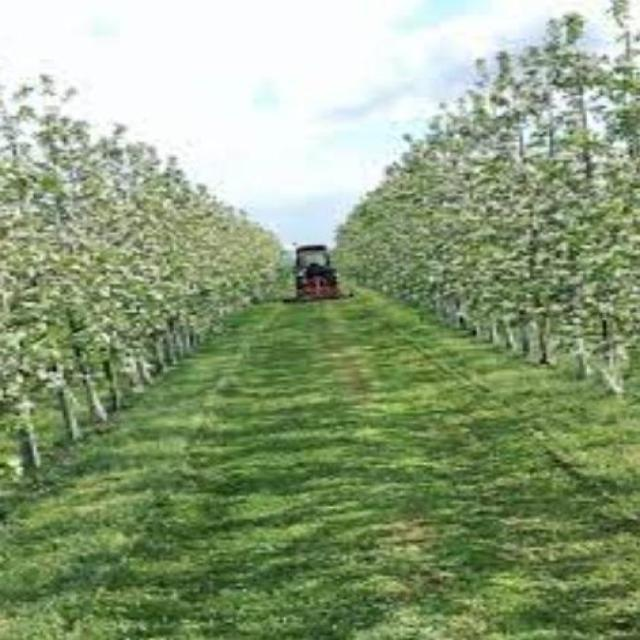row: (0, 275, 638, 639)
